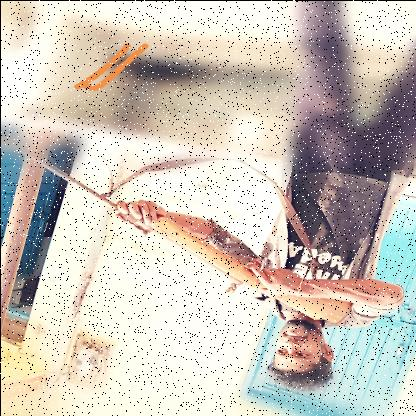rifle: (0, 134, 359, 326)
